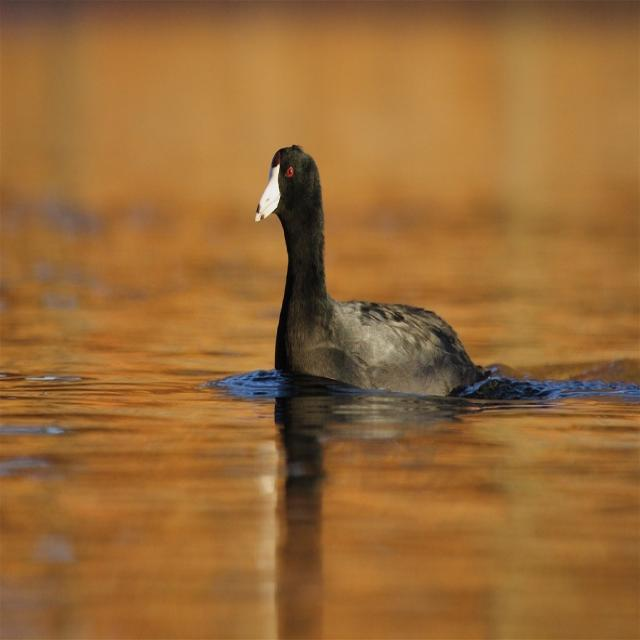bird: (247, 132, 529, 424)
